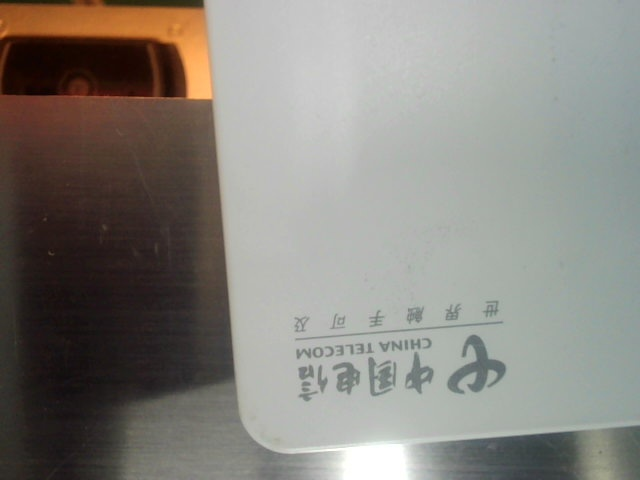AB_ChinaTelecom: (277, 296, 516, 408)
